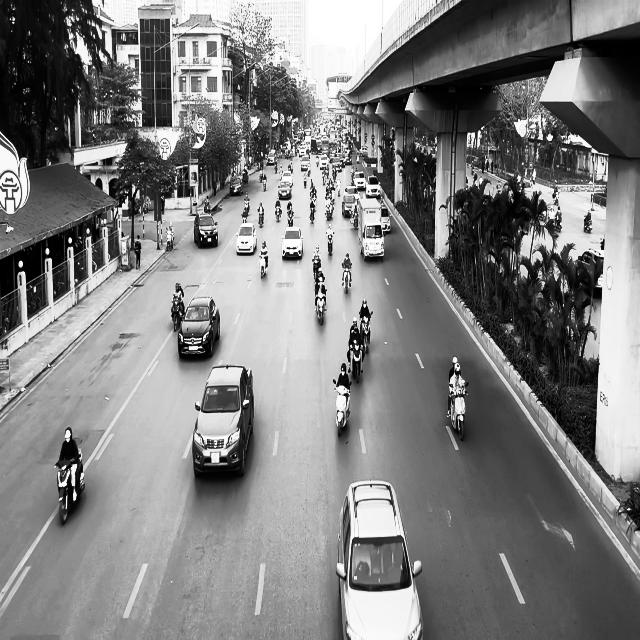car: (336, 479, 423, 639), (192, 363, 254, 477), (178, 295, 220, 359), (193, 213, 218, 248), (281, 226, 303, 259), (236, 222, 256, 254), (229, 176, 243, 196)
motorbike: (54, 445, 85, 524), (332, 378, 352, 437), (448, 381, 468, 440), (349, 342, 364, 383), (359, 310, 373, 353), (314, 286, 327, 324), (171, 297, 184, 331), (341, 262, 352, 293), (259, 252, 268, 278), (583, 208, 592, 232), (326, 232, 334, 255), (166, 228, 174, 251), (274, 202, 282, 222)
